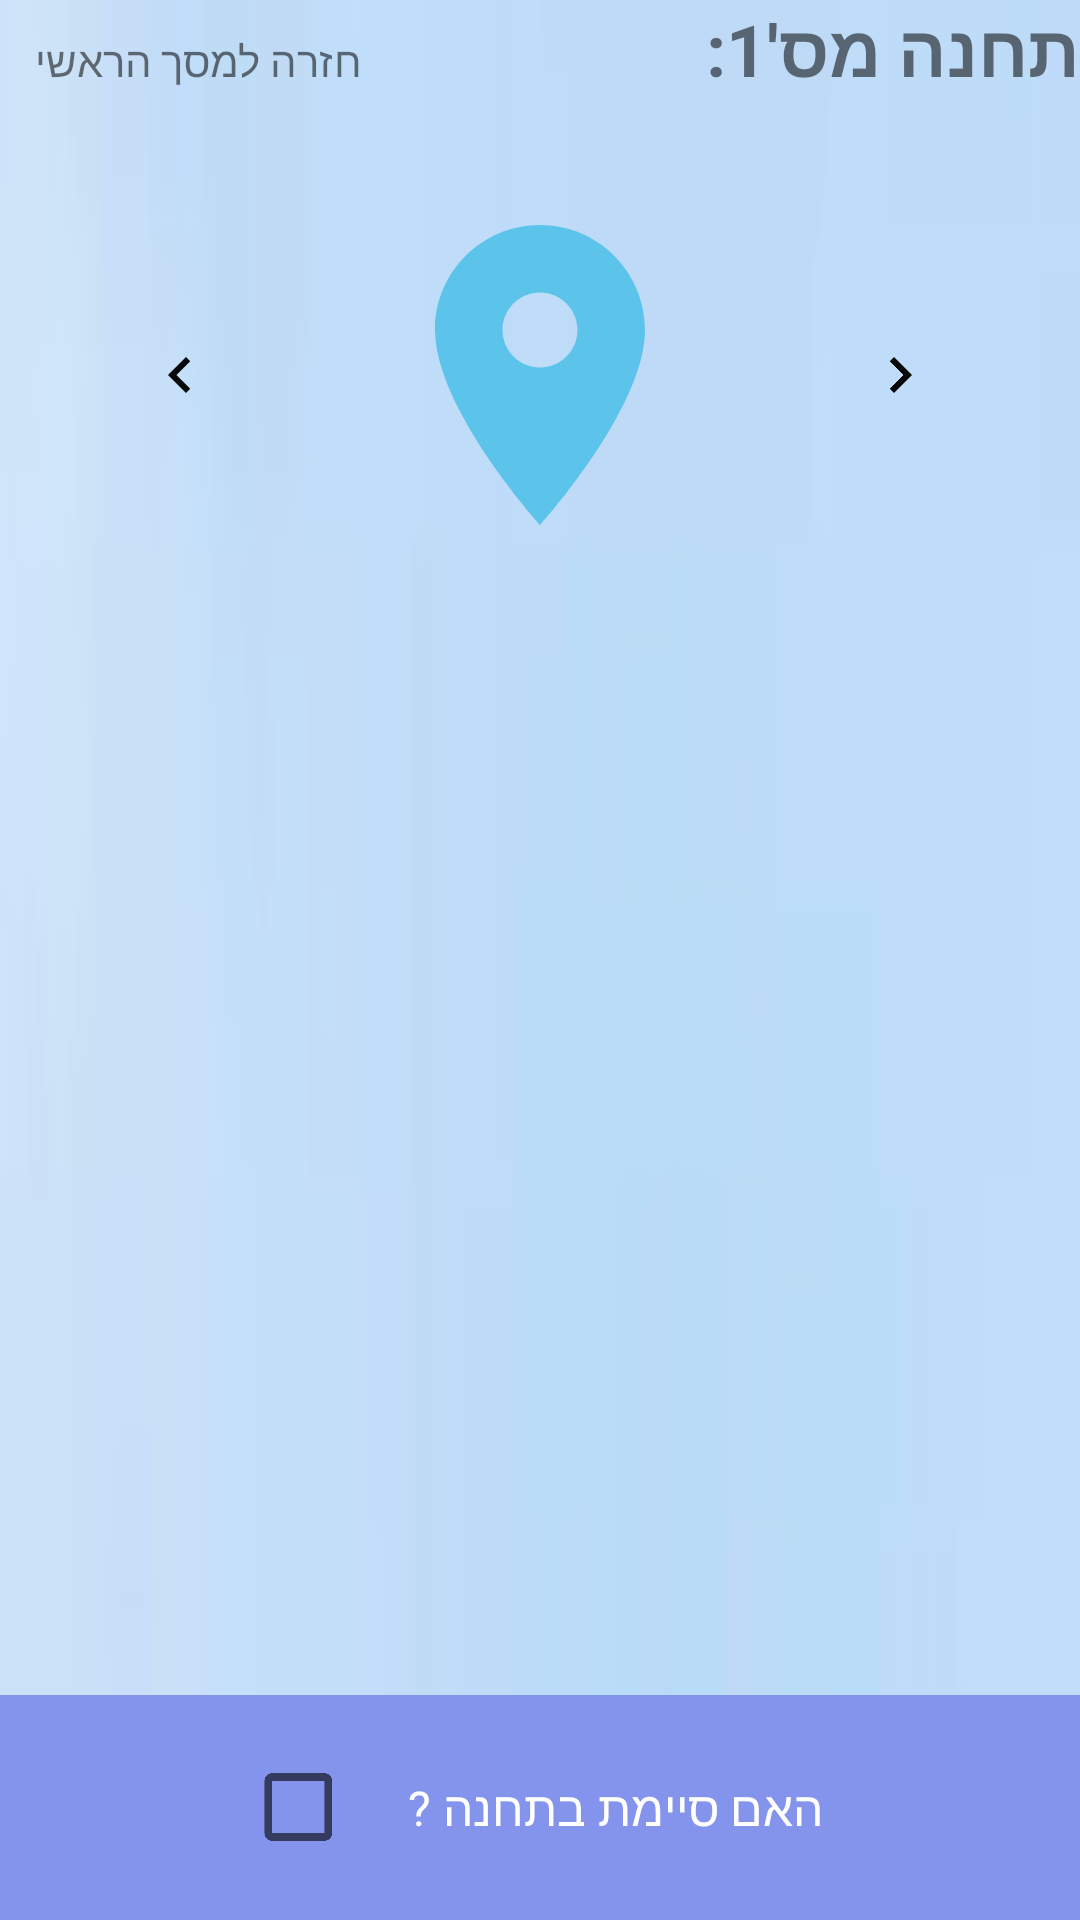

Icon bounding boxes for this 1080x1920 phone screenshot, format rect(x1, y1, x2, y2):
navnext: rect(890, 357, 912, 393)
